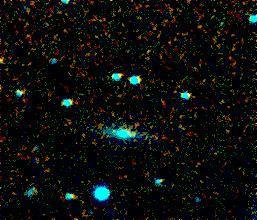star: (123, 119, 153, 149)
